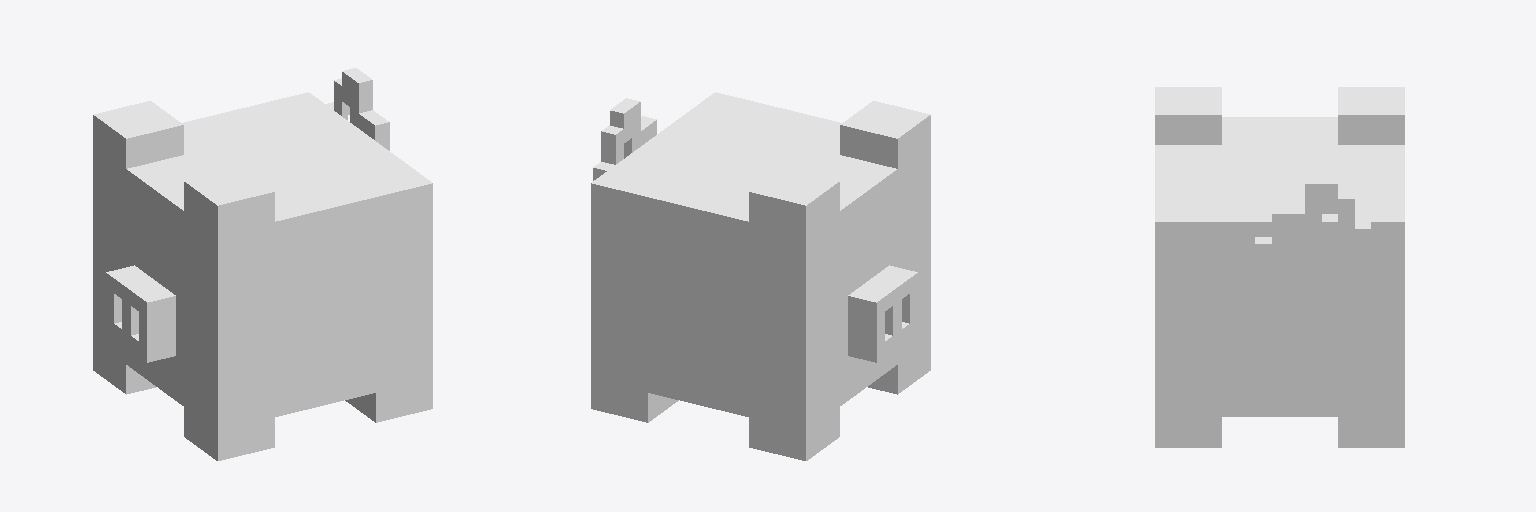
The model's file is pig.obj.
3 views of the same model, side by side, from view 1: azimuth 30°, elevation 25°; view 2: azimuth 150°, elevation 25°; view 3: azimuth 270°, elevation 25° (orthographic).
Visible parts, largest first — view 1: pig; view 2: pig; view 3: pig.
Boxes of the visible parts, x1=… form: pig: x1=93, y1=68, x2=432, y2=460; pig: x1=591, y1=92, x2=930, y2=460; pig: x1=1155, y1=87, x2=1404, y2=447.
Size of the model in its own units: 18 by 18 by 15.